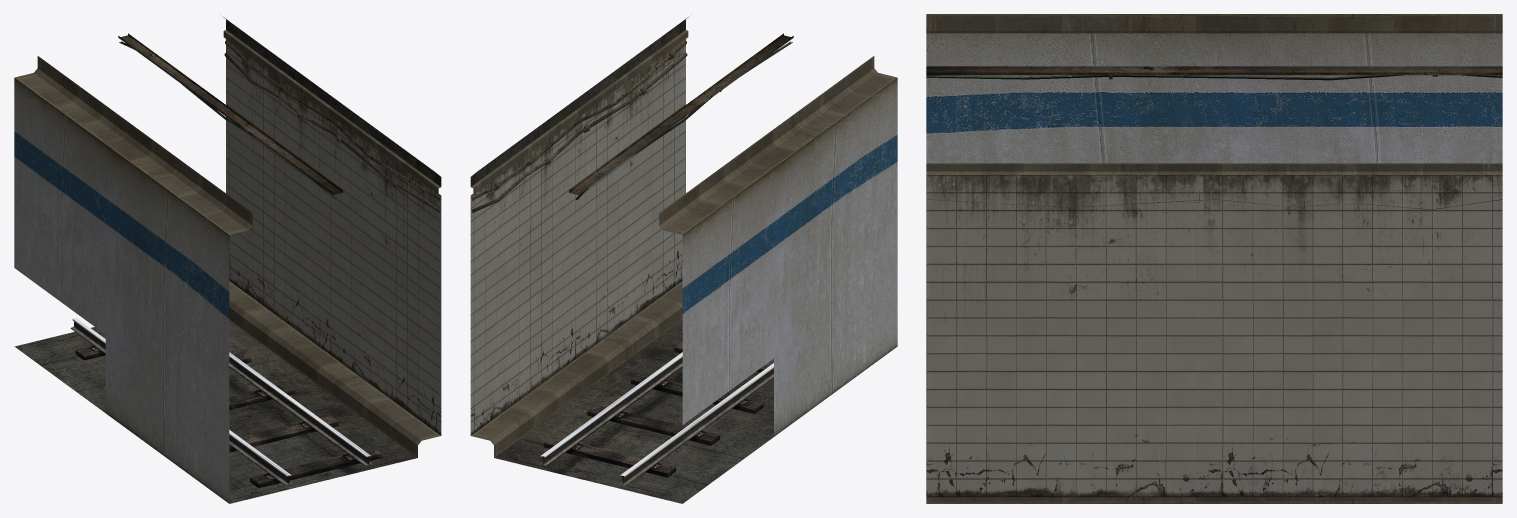
Rendered from Tunnel_Int_A.fbx.
3 views of the same model, side by side, from view 1: azimuth 30°, elevation 25°; view 2: azimuth 150°, elevation 25°; view 3: azimuth 270°, elevation 25° (orthographic). The views are drawn at different scales.
Parts seen in each view (by area): view 1: TunnelWallA1; view 2: TunnelWallA1; view 3: TunnelWallA1.
Boxes of the visible parts, <box> form: TunnelWallA1: <box>14,17,441,503</box>; TunnelWallA1: <box>470,17,897,503</box>; TunnelWallA1: <box>926,14,1502,503</box>.
Size of the model in its own units: 428 by 557 by 751.
